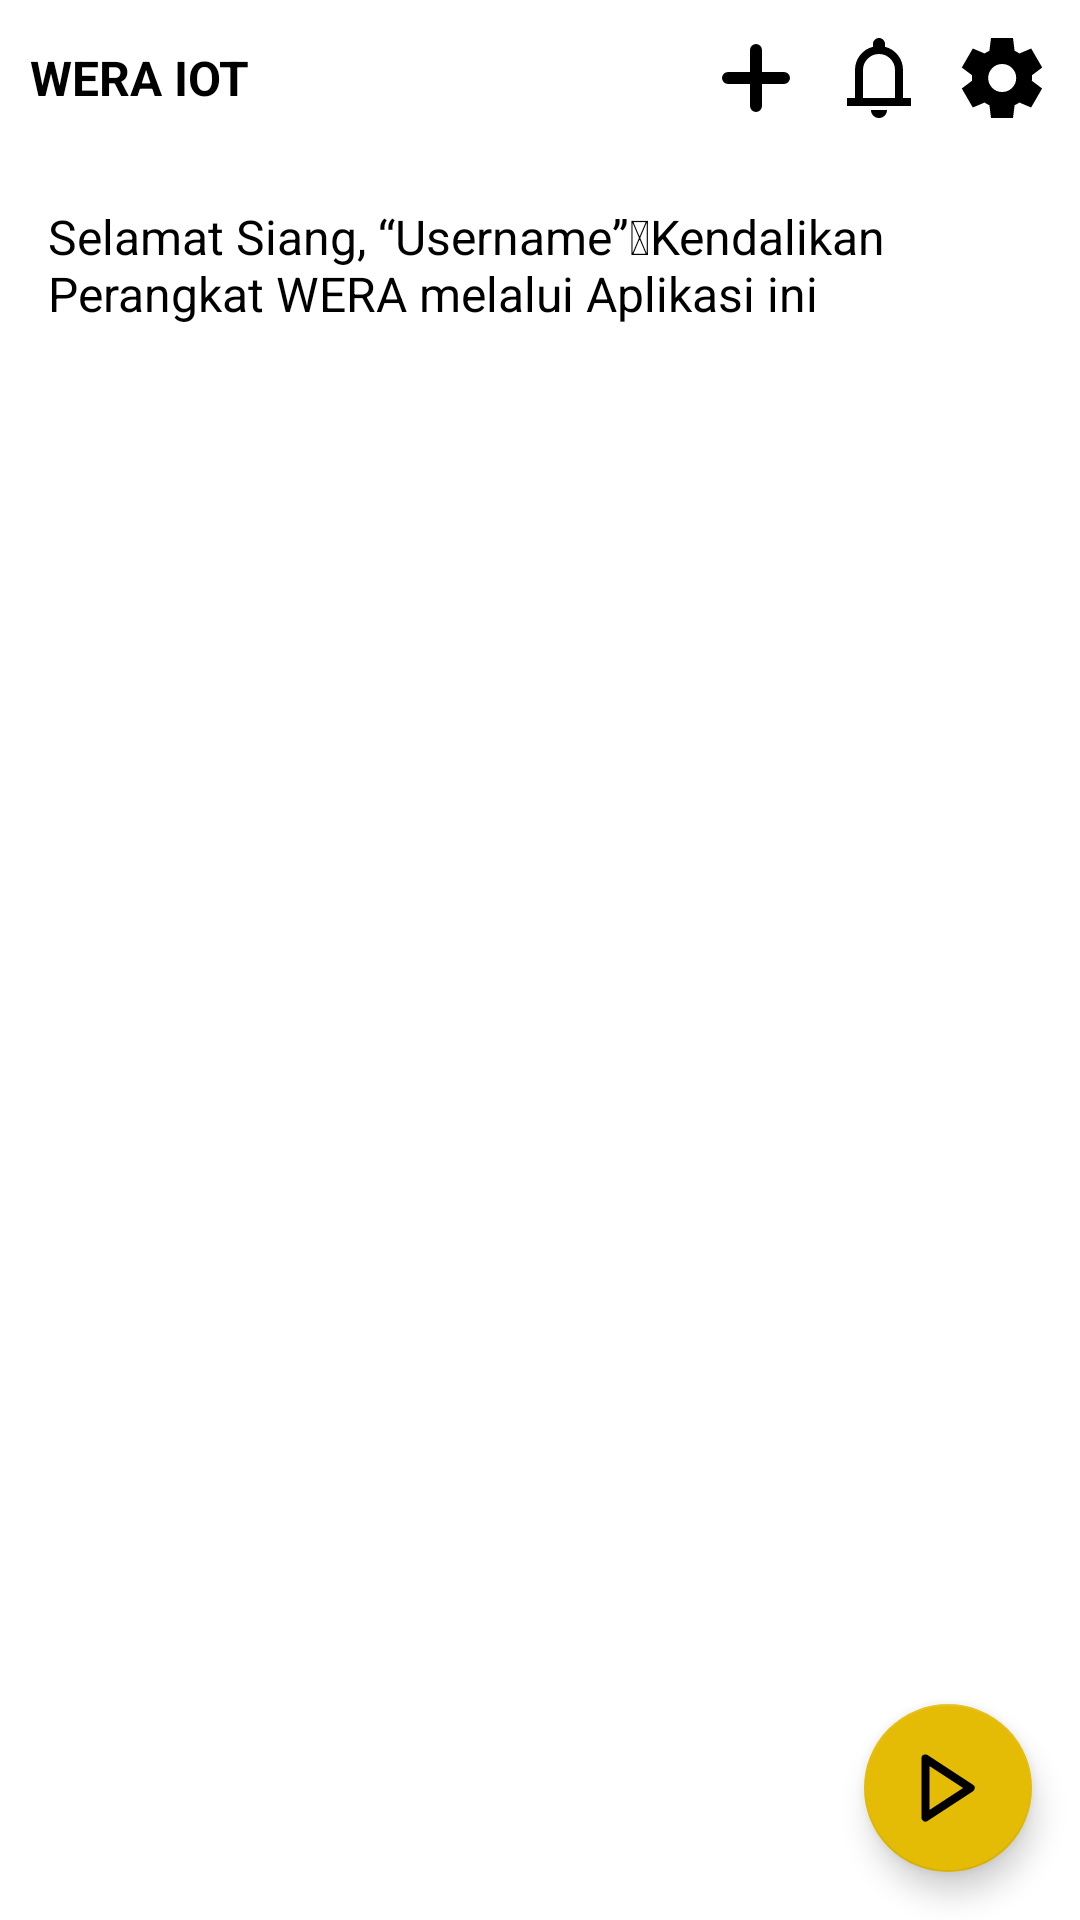

Icon click points for this 1080×1920 phone screenshot, format (x=x, y=y):
Add: (x=756, y=78)
Notification: (x=879, y=78)
Settings: (x=1002, y=78)
Start All: (x=948, y=1788)
